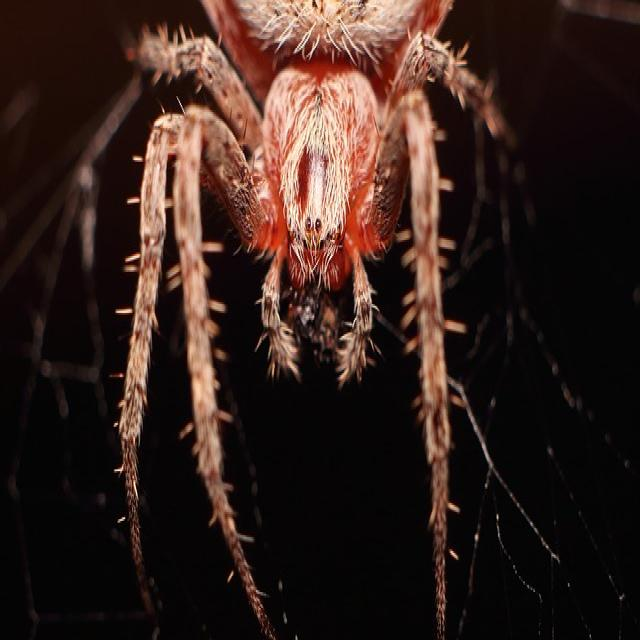spyder: (120, 0, 501, 634)
